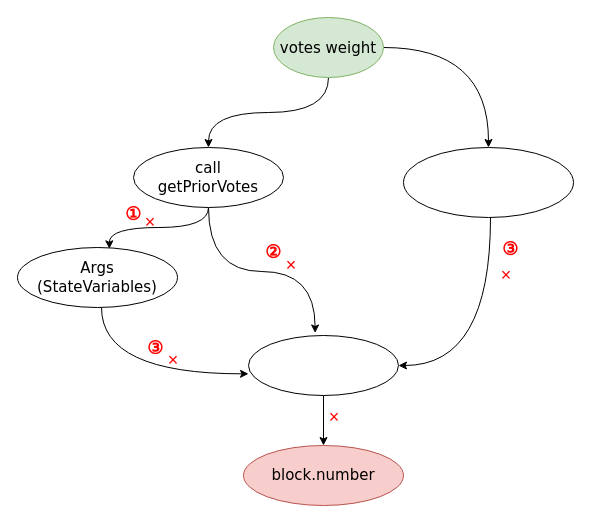
The diagram is 591 pixels wide and 523 high, and some of its shapes have lost their labels. The box of each missing label's shape, as (x1, y1, x2, y2) in pixels:
StateVariables: (402, 146, 574, 218)
Upstream Func: (248, 334, 398, 396)
